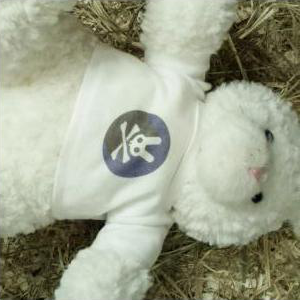bunny: (102, 109, 172, 180)
